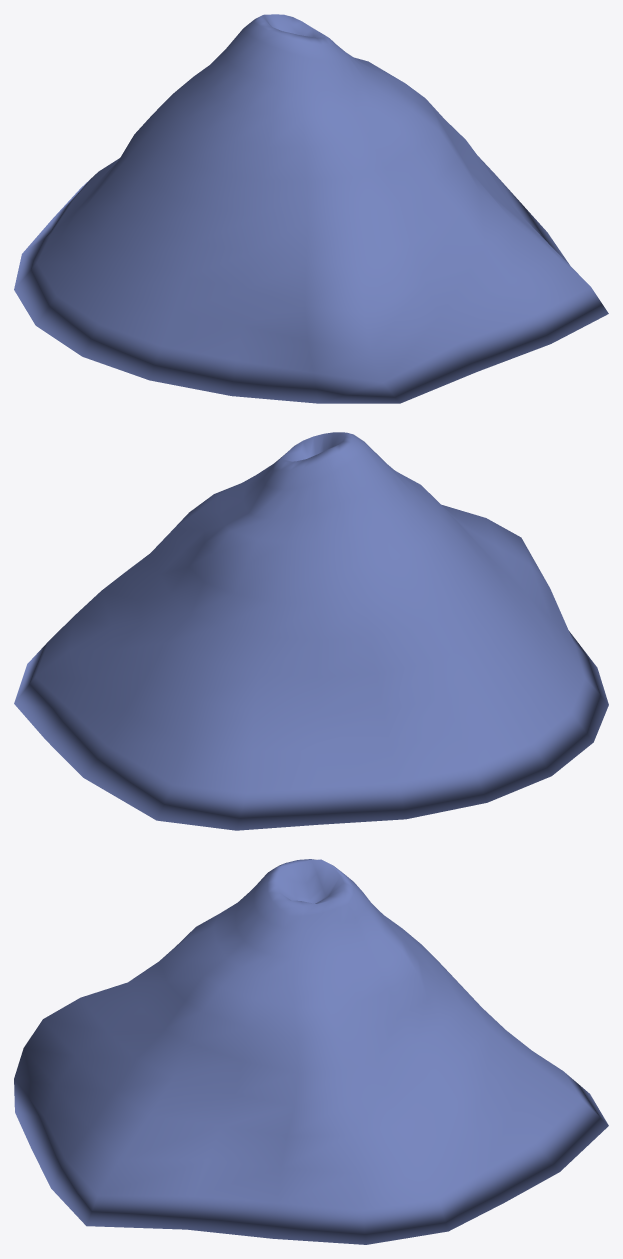
File: Anthill.fbx
The picture shows the model from 3 angles, top to bottom: view 1: azimuth 30°, elevation 25°; view 2: azimuth 150°, elevation 25°; view 3: azimuth 270°, elevation 25°; orthographic projection. The views are drawn at different scales.
Visible parts, largest first — view 1: anthill_GEO; view 2: anthill_GEO; view 3: anthill_GEO.
Part boxes in pixels (x1=…): anthill_GEO: x1=14, y1=14, x2=608, y2=403; anthill_GEO: x1=14, y1=432, x2=608, y2=830; anthill_GEO: x1=14, y1=859, x2=608, y2=1244.
Size of the model in its own units: 19.44 by 10.06 by 20.8.
